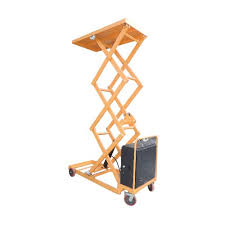Scissor Lift: (61, 18, 159, 206)
